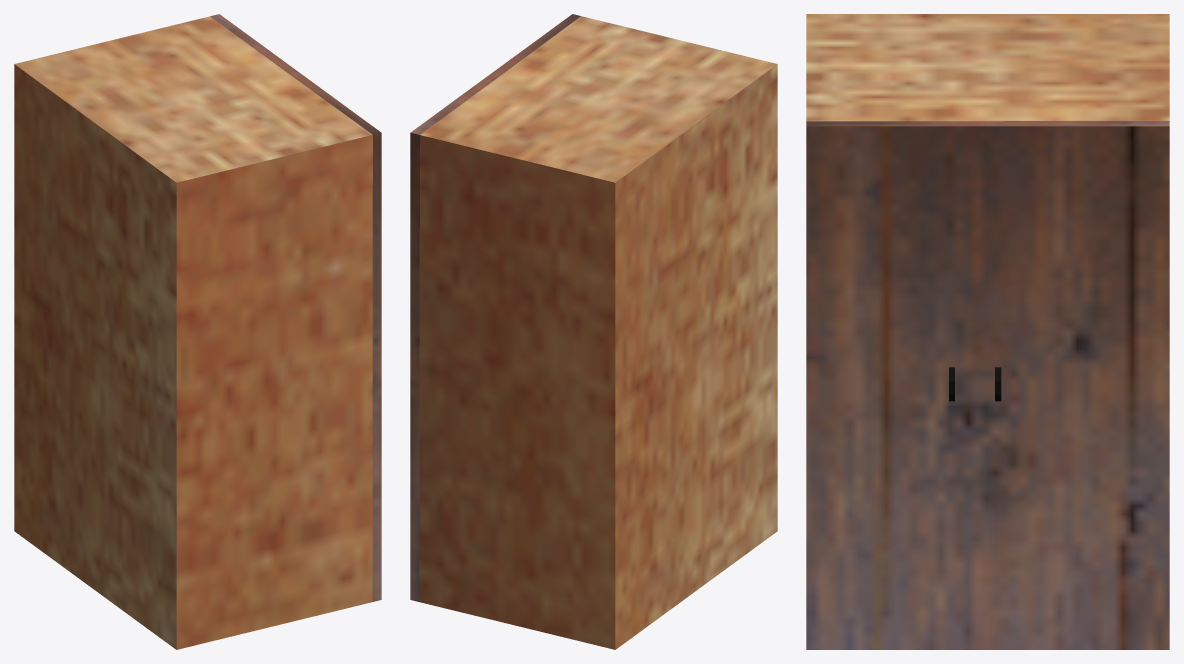
File: шкаф.fbx
3 views of the same model, side by side, from view 1: azimuth 30°, elevation 25°; view 2: azimuth 150°, elevation 25°; view 3: azimuth 270°, elevation 25° (orthographic). The views are drawn at different scales.
Visible parts, largest first — view 1: Cube.003, Cube.001; view 2: Cube.003, Cube.001; view 3: Cube.001, Cube.003.
Part boxes in pixels (x1,y1,x2,y2): Cube.003: (14,16,372,649); Cube.001: (210,14,381,601); Cube.003: (419,16,777,649); Cube.001: (410,14,580,601); Cube.001: (806,121,1169,649); Cube.003: (806,14,1169,121).
Size of the model in its own units: 75.8 by 160 by 101.
3 materials, 3 textured.
